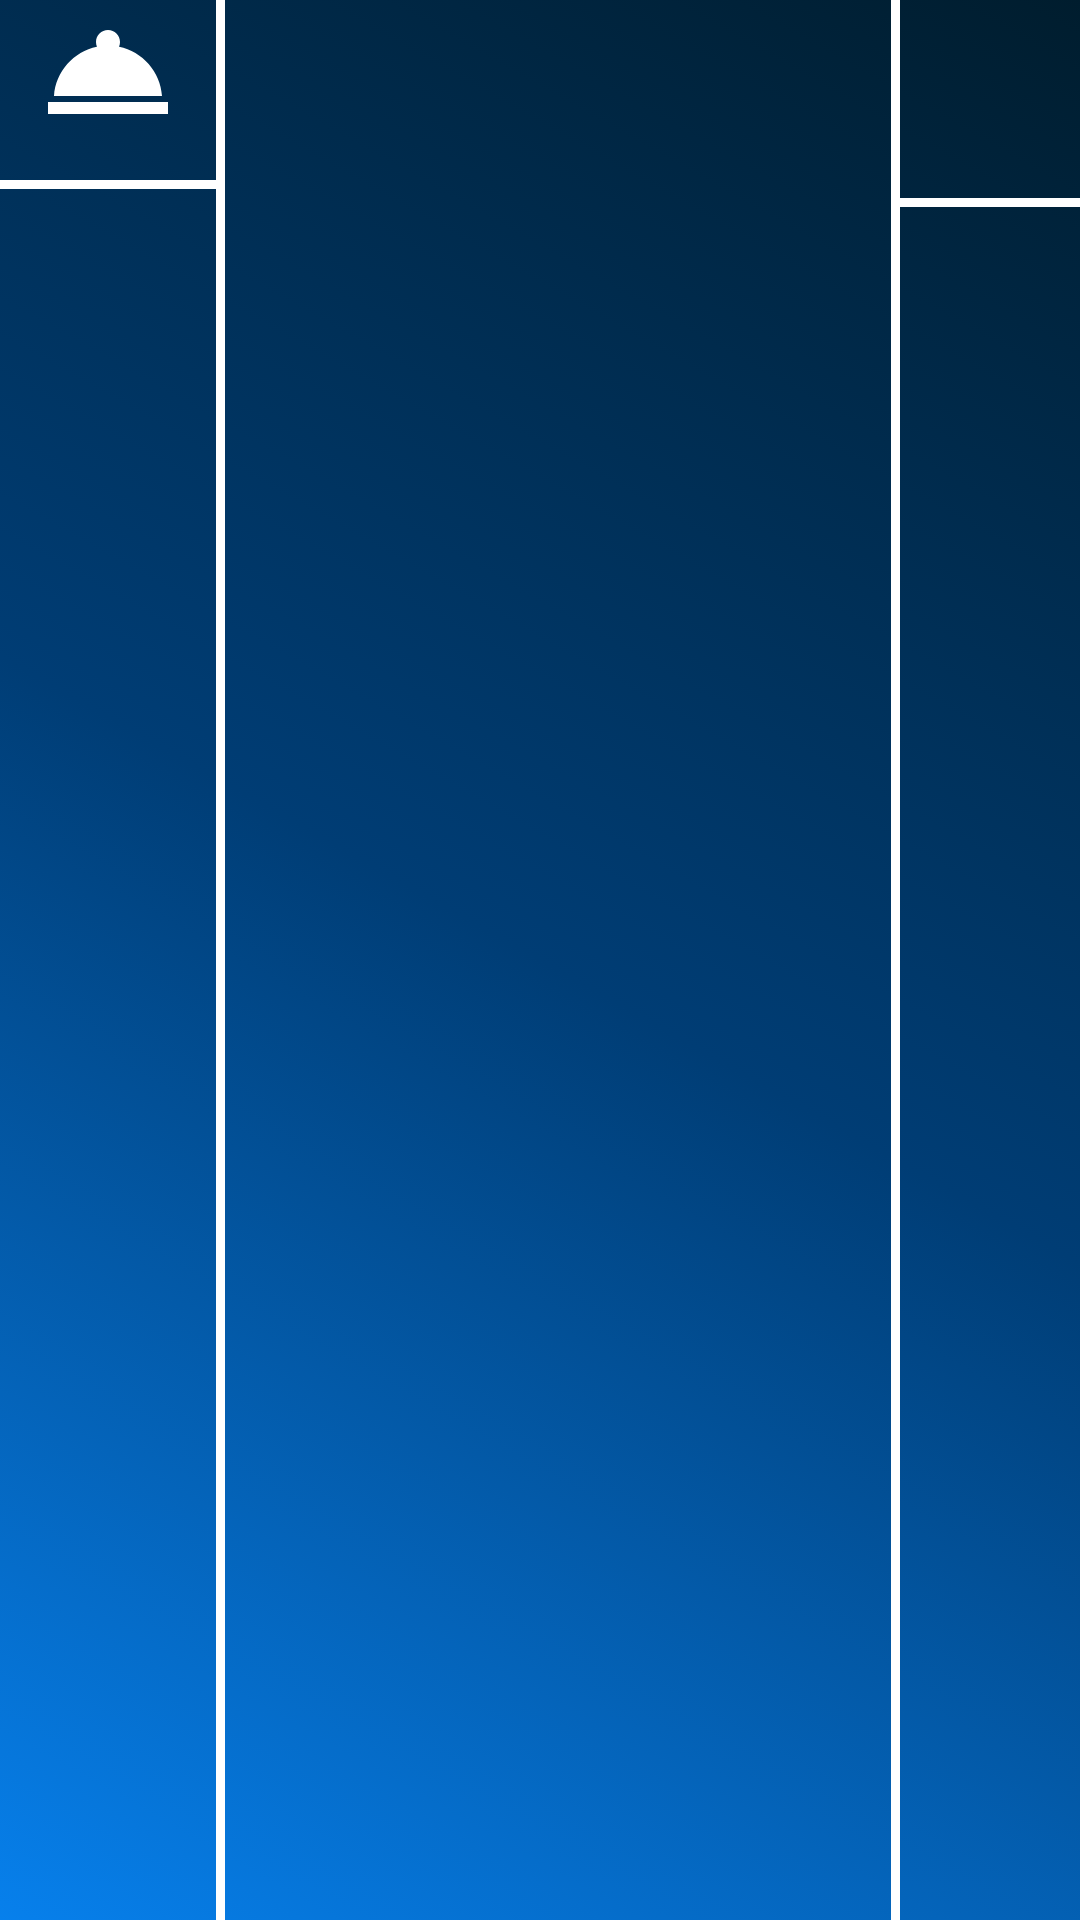

Where to tap for icons on this 1080w x 1920h app screen, as (x,y):
dish: (108,72)
